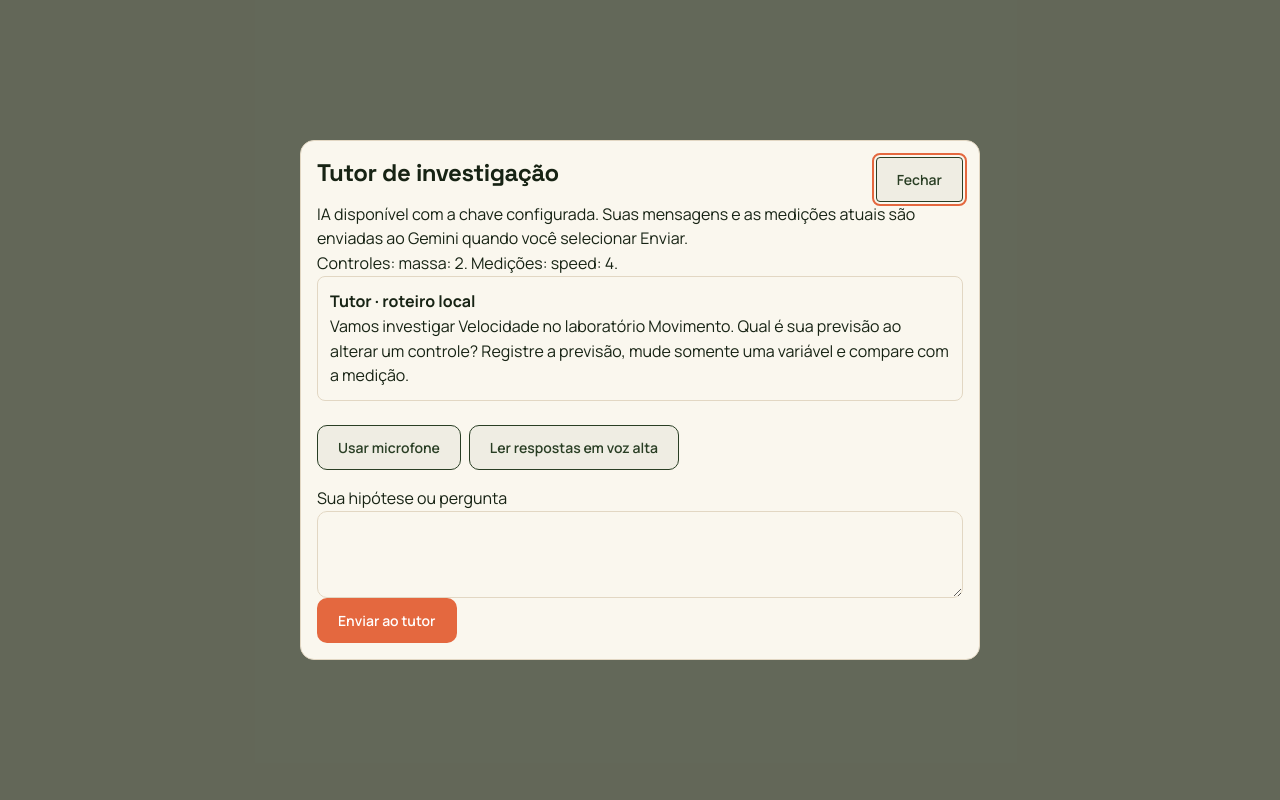
tutor com chave usa a resposta real, e falha conserva mensagem para tentar novamente
Step 1. Type "O que mudou?" into the text box labelled "Sua hipótese ou pergunta" → (640, 554), box [317, 510, 963, 598]
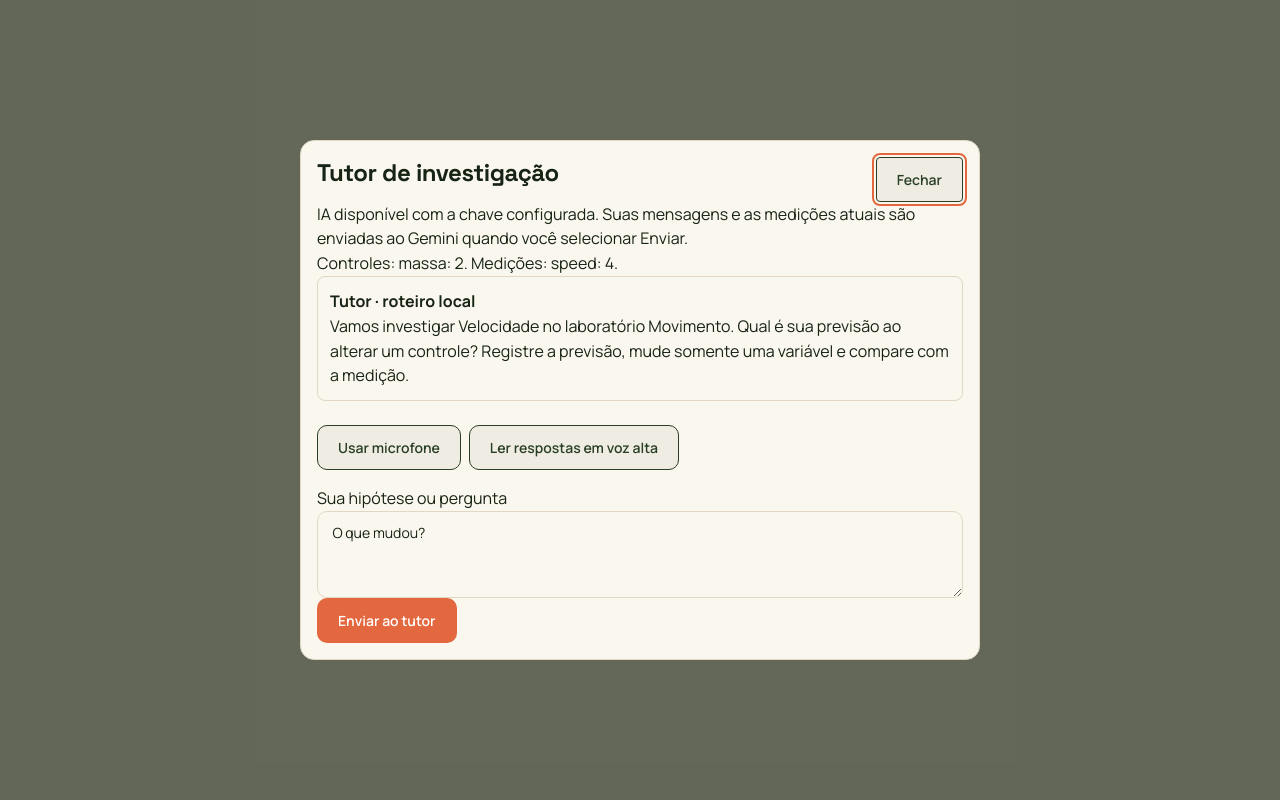
Step 2. Click the button "Enviar ao tutor" → (387, 621), box [317, 598, 456, 643]
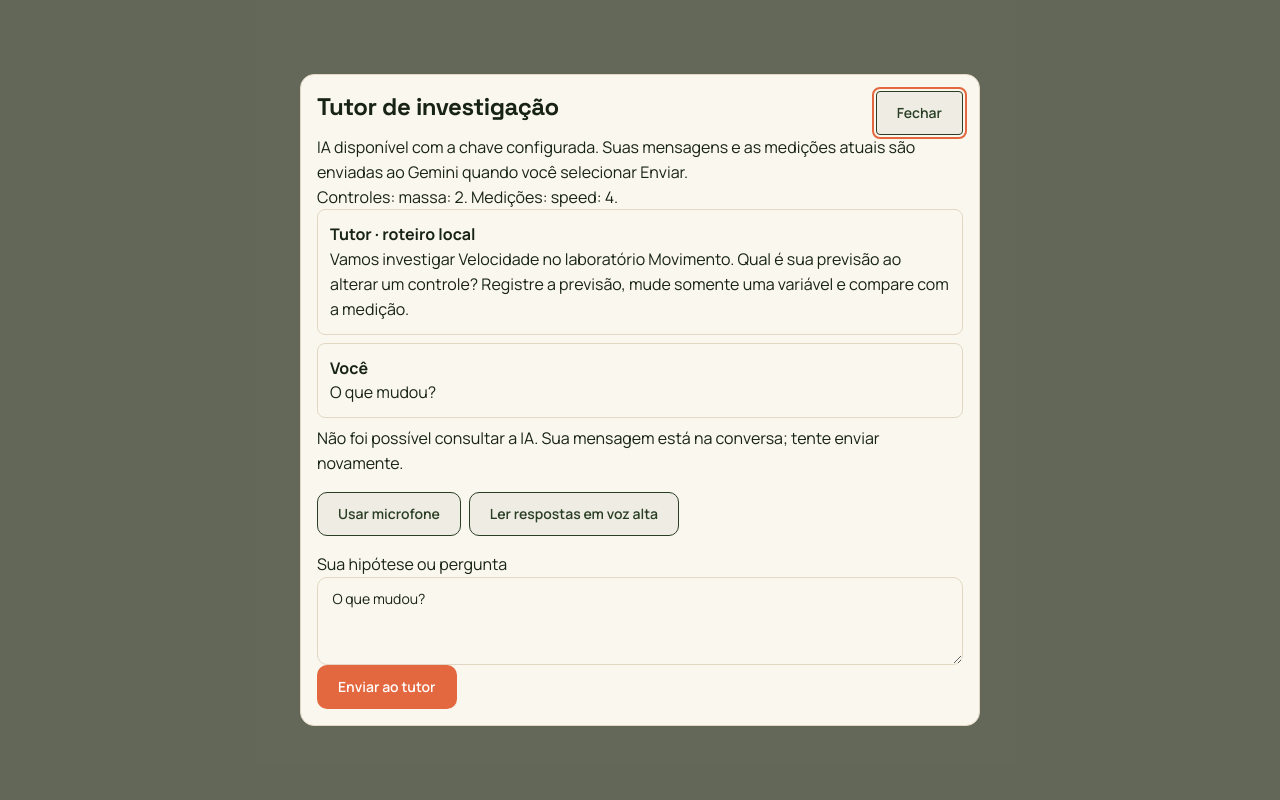
Result: the message is shown at [317, 426, 963, 476]
Step 3. Click the button "Enviar ao tutor" → (387, 687), box [317, 665, 456, 709]
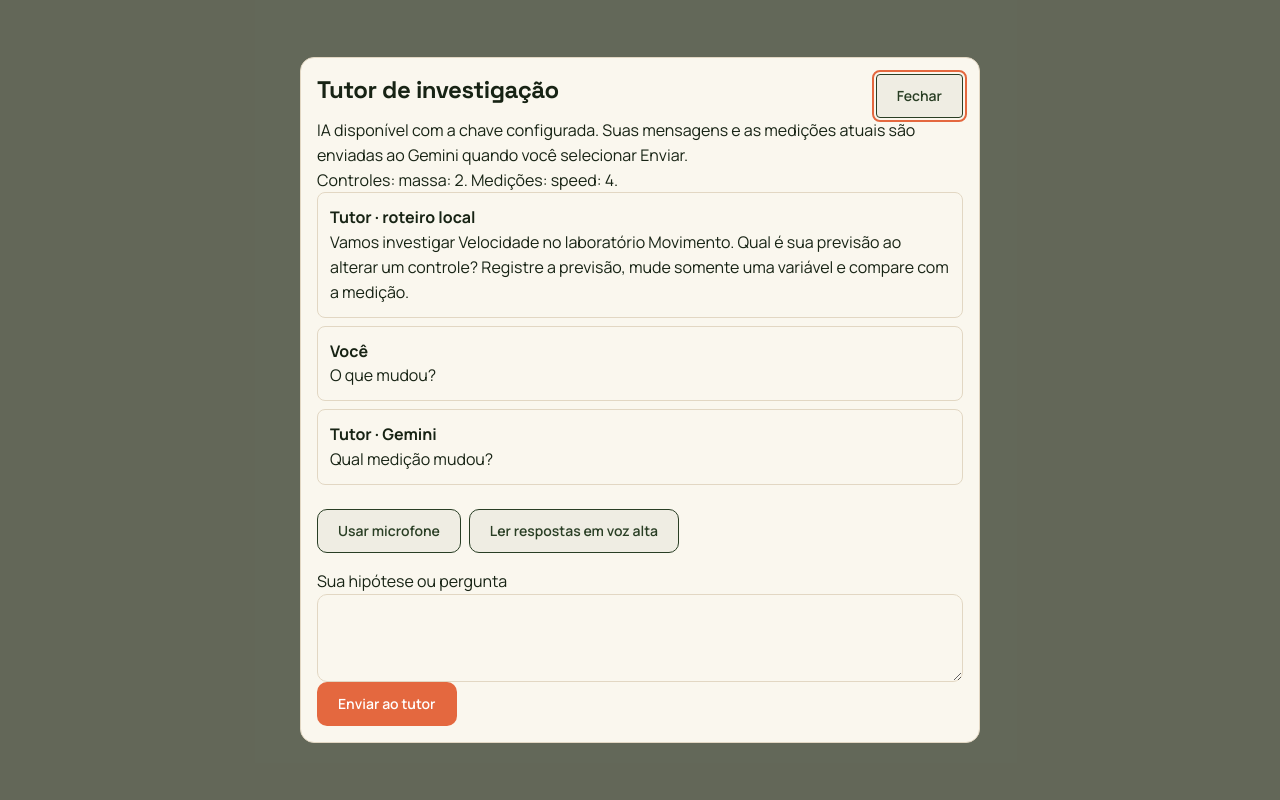
Result: the text "Qual medição mudou?" is shown at [330, 448, 493, 470]
